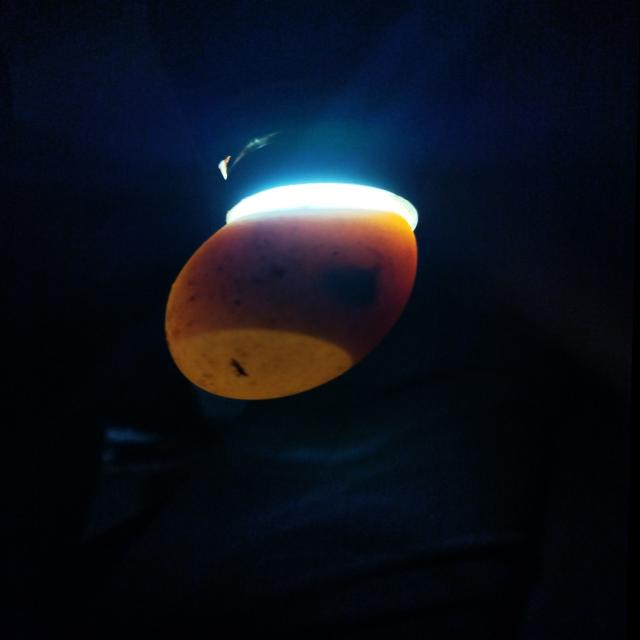Area Infectada: (187, 221, 385, 330)
